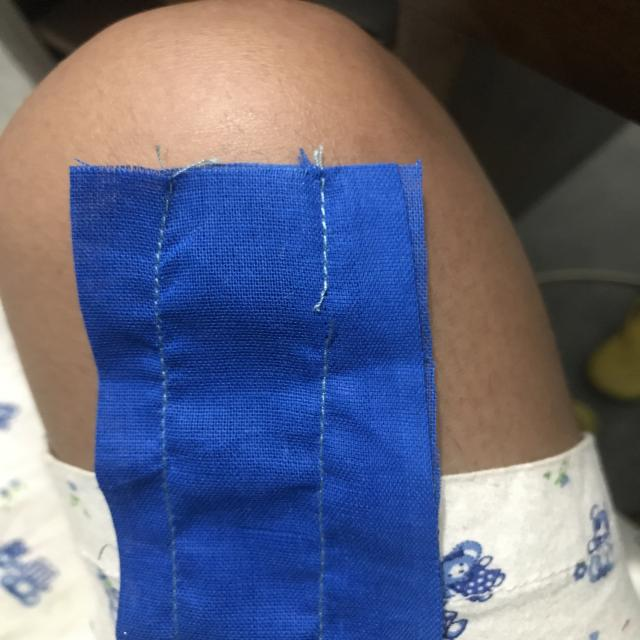broken: (300, 273, 348, 363)
